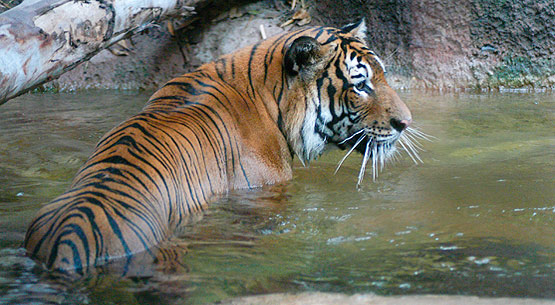Tiger: (22, 16, 453, 289)
